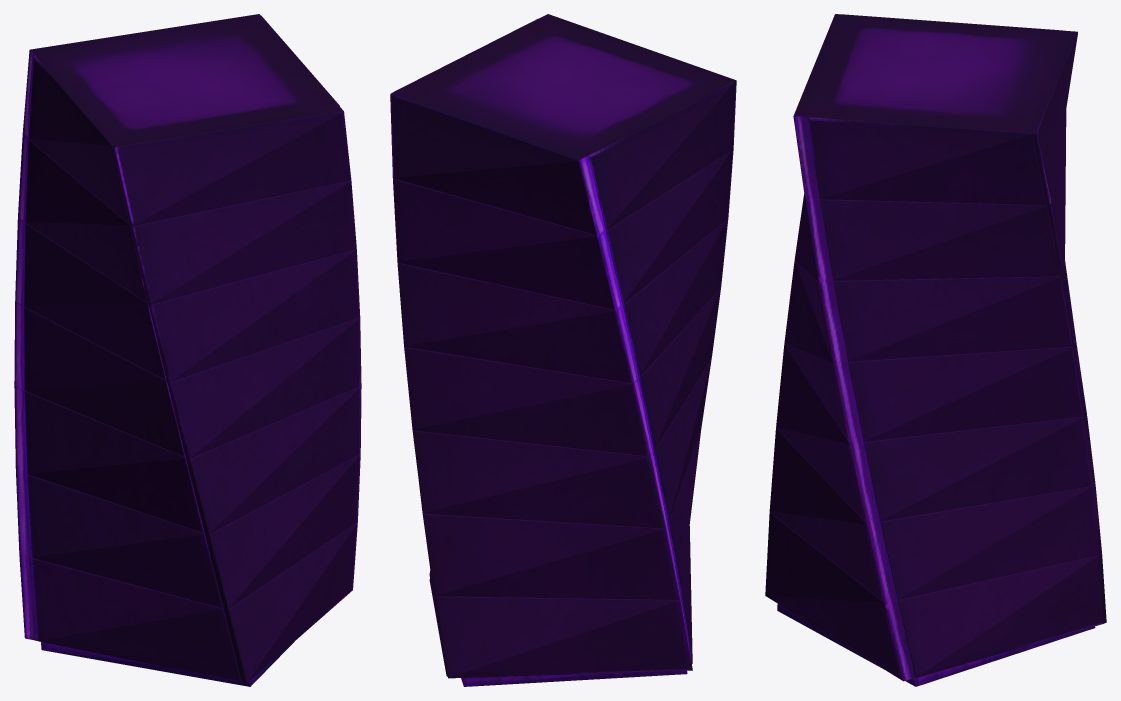
Rendered from edited_mesh.glb.
3 views of the same model, side by side, from view 1: azimuth 30°, elevation 25°; view 2: azimuth 150°, elevation 25°; view 3: azimuth 270°, elevation 25° (orthographic).
Parts seen in each view (by area): view 1: normalized_model.obj; view 2: normalized_model.obj; view 3: normalized_model.obj.
Part boxes in pixels (x1,y1,x2,y2): normalized_model.obj: (14,14,361,686); normalized_model.obj: (390,14,736,686); normalized_model.obj: (765,14,1106,686).
Size of the model in its own units: 0.8834 by 1.56 by 0.8848.
Materials: 1 (1 with a texture image).
